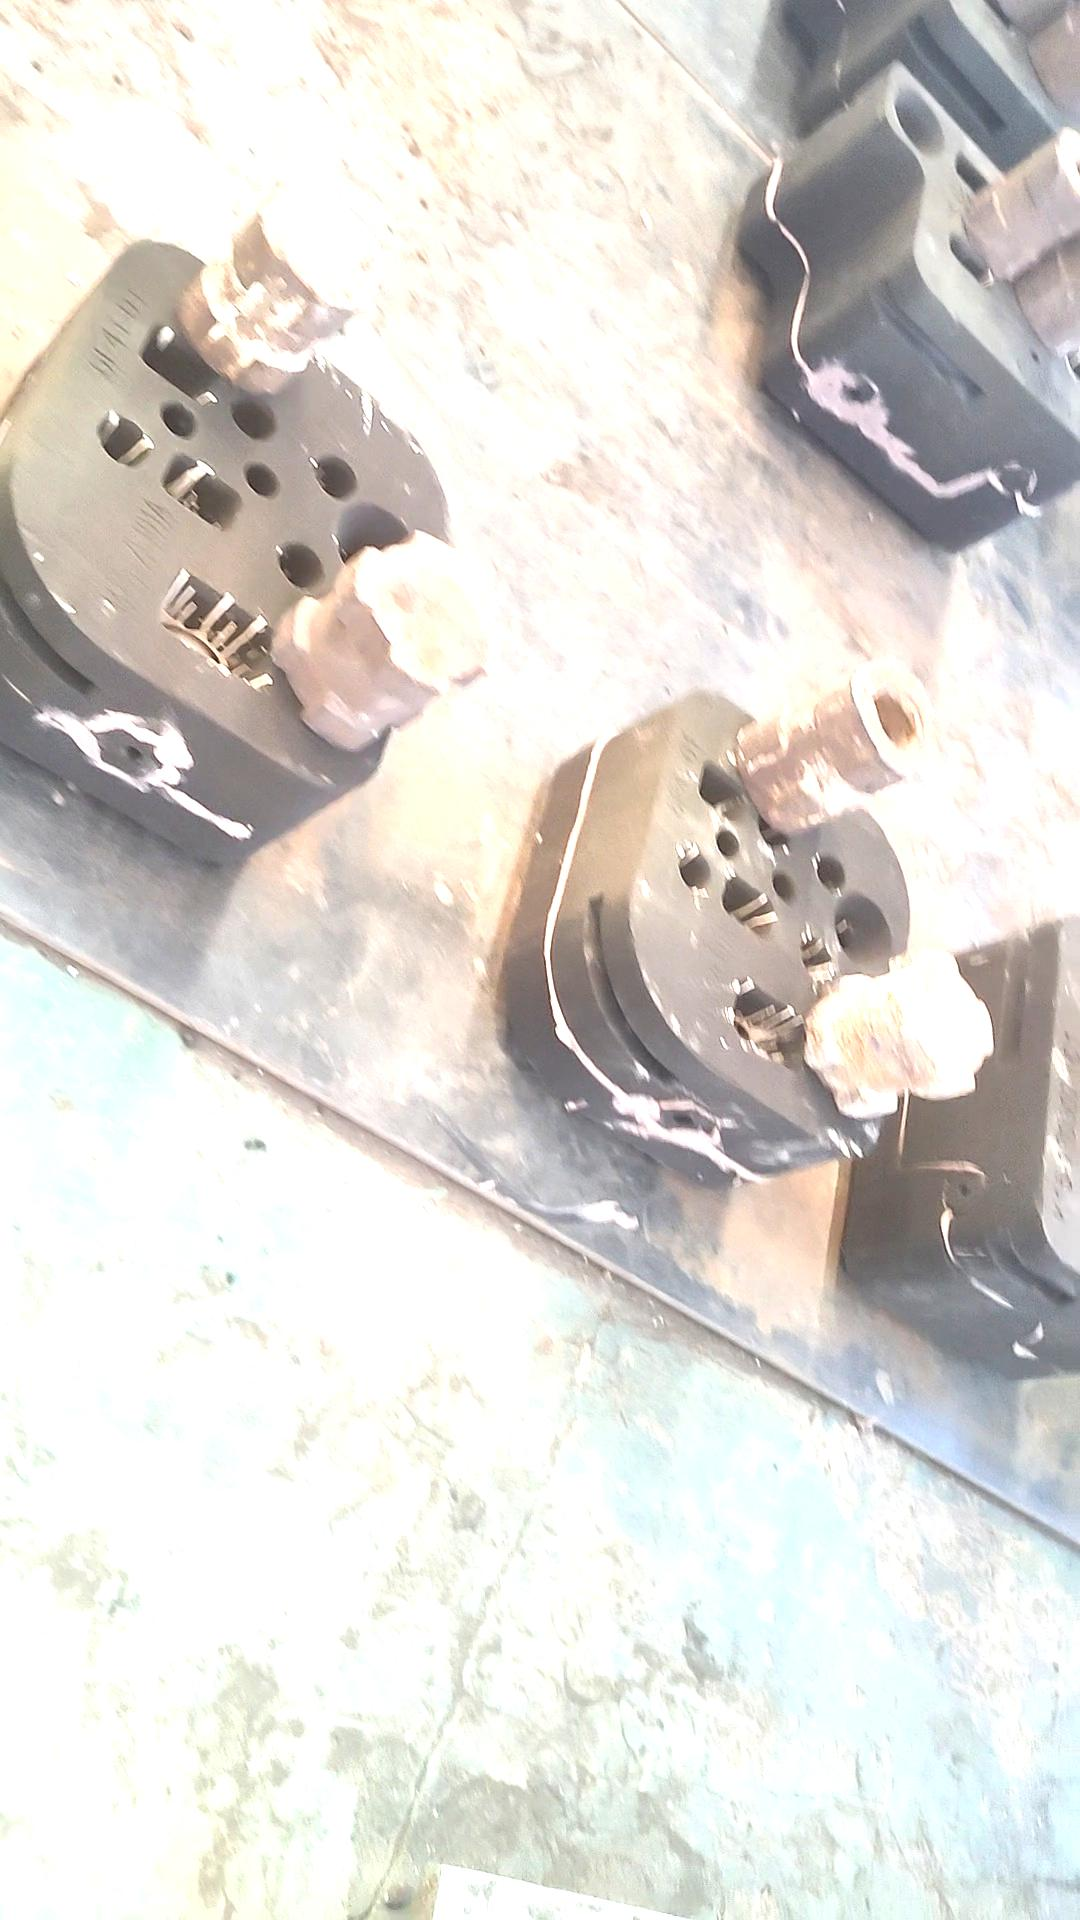pouring hole: (334, 500, 421, 574), (832, 889, 894, 971), (895, 88, 949, 160)
